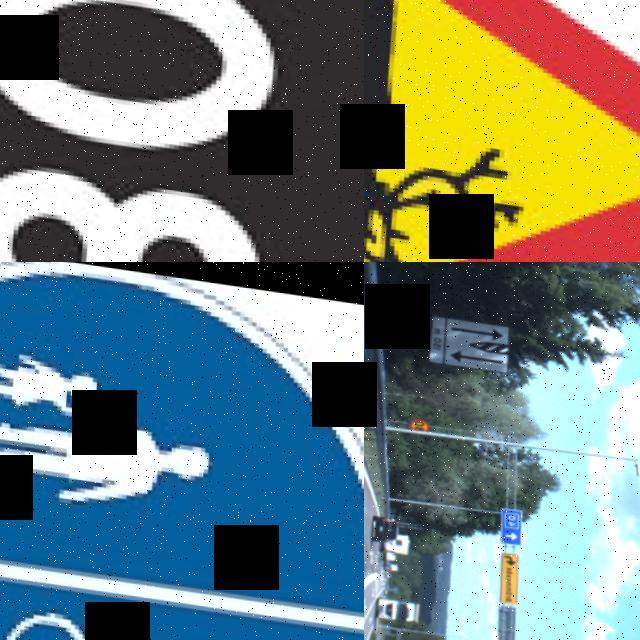100: (0, 0, 364, 262)
172: (494, 502, 526, 544)
173: (491, 545, 524, 602)
55: (406, 412, 429, 432)
66: (437, 312, 514, 372)
99: (0, 262, 364, 640)
warning wild animal: (364, 0, 640, 262)
